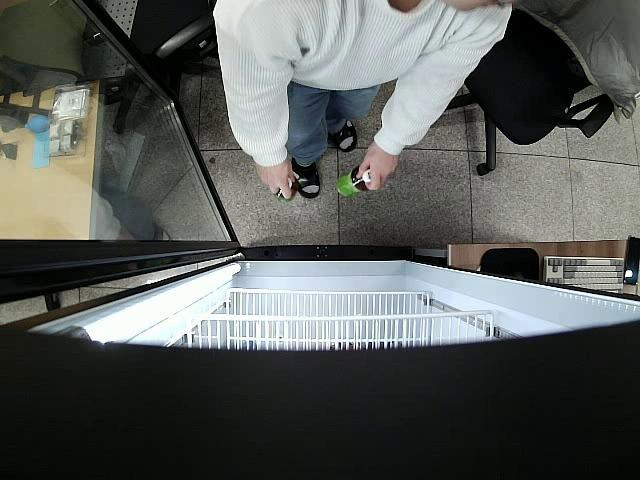19_17cha: (333, 164, 372, 197), (275, 176, 296, 202)
